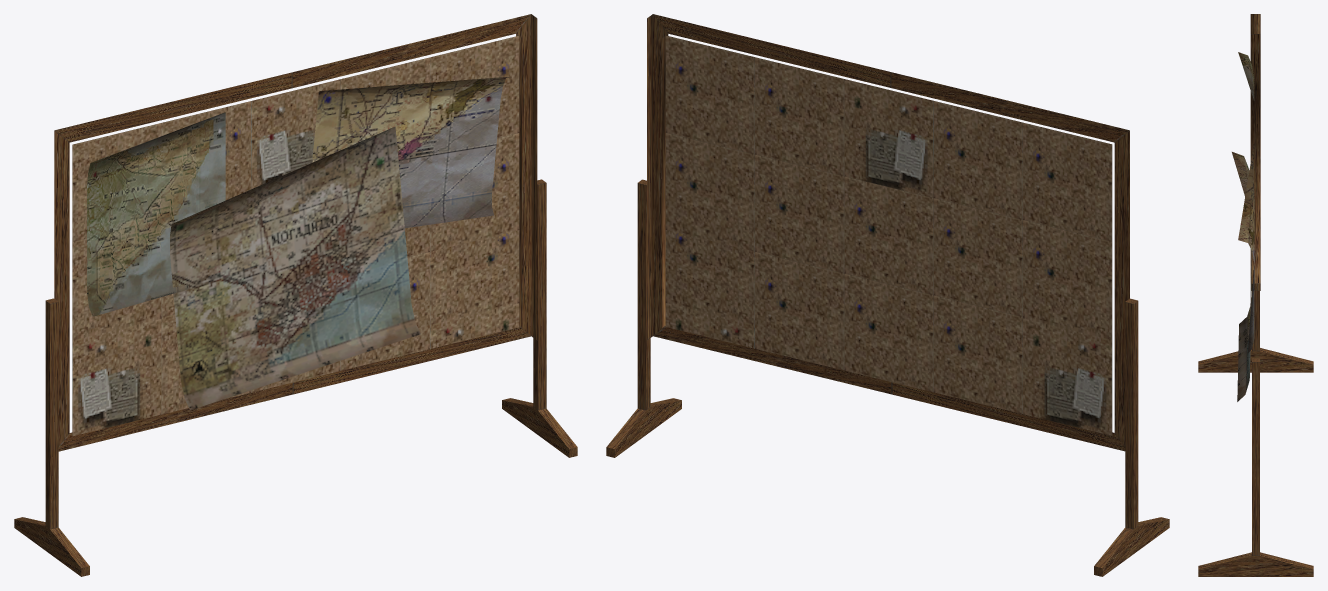
The model's file is Mapbrd.glb.
The picture shows the model from 3 angles, left to right: view 1: azimuth 30°, elevation 25°; view 2: azimuth 150°, elevation 25°; view 3: azimuth 270°, elevation 25°; orthographic projection. The views are drawn at different scales.
Visible parts, largest first — view 1: _Mapbrd; view 2: _Mapbrd; view 3: _Mapbrd.
Part boxes in pixels (<box>): _Mapbrd: <box>14,14,577,576</box>; _Mapbrd: <box>606,14,1169,576</box>; _Mapbrd: <box>1198,14,1313,576</box>.
Bounding box in the file's own units: 3.26 × 2.62 × 0.7641.
1 material, 1 textured.
